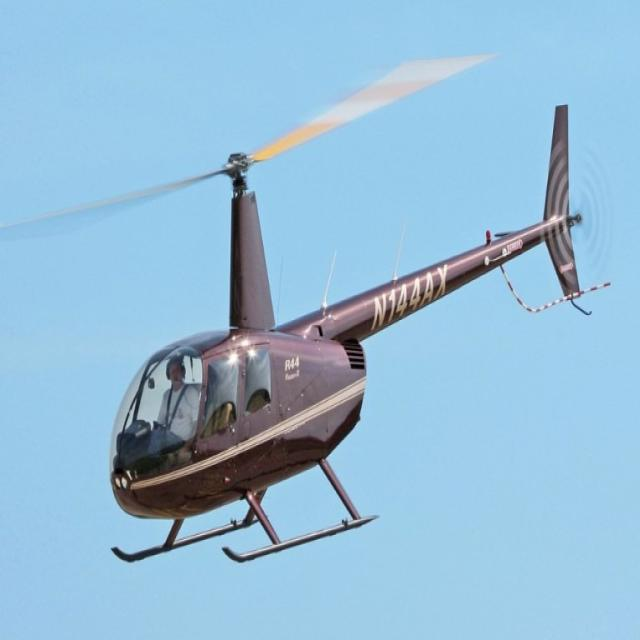CIV_HELO: (106, 99, 586, 565)
